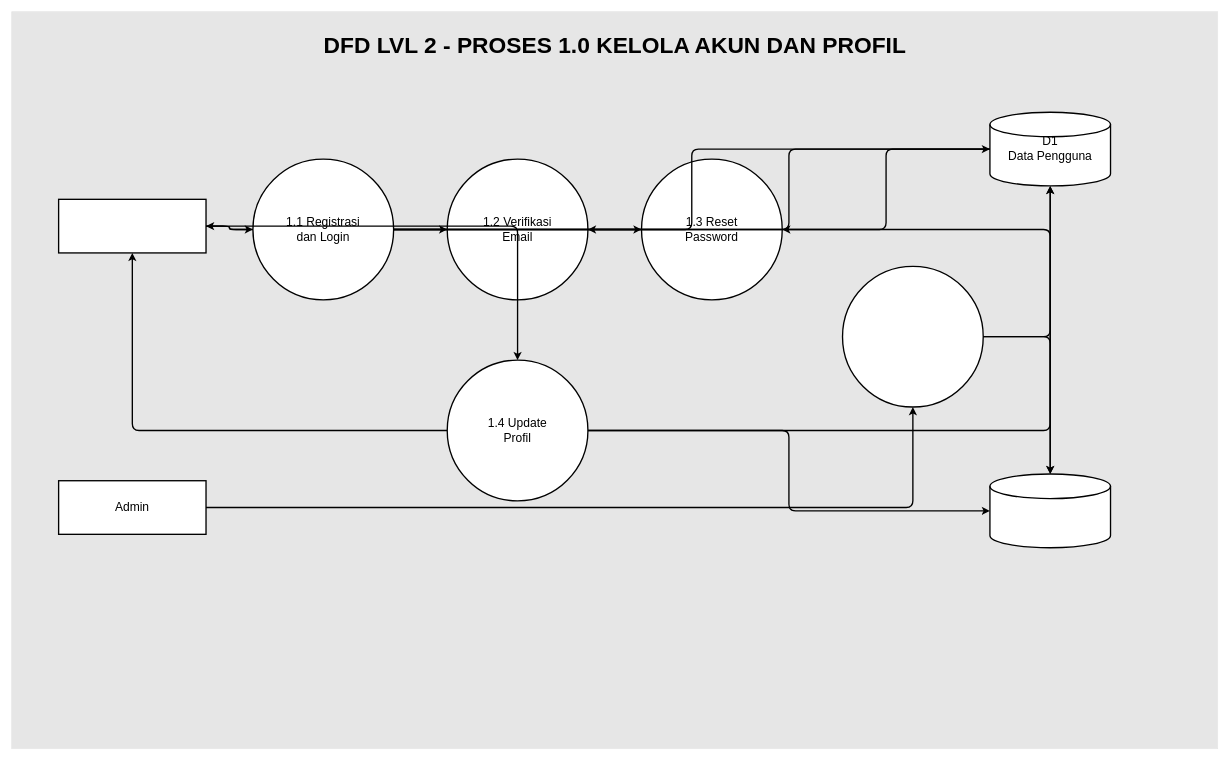
Image size: 1229x760. Some labels were removed from this diagram. Each missing label, with the centre of its shape:
"1.5 Aktivasi dan Kelola Akun User" goes at [913,336].
"D6 Log Aktivitas" goes at [1050,510].
"Umat / Guest" goes at [132,225].
